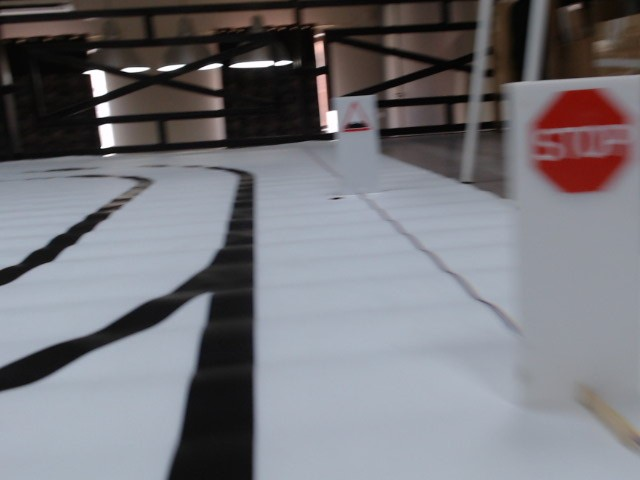Nerov: (343, 101, 370, 131)
Stop: (529, 88, 633, 197)
